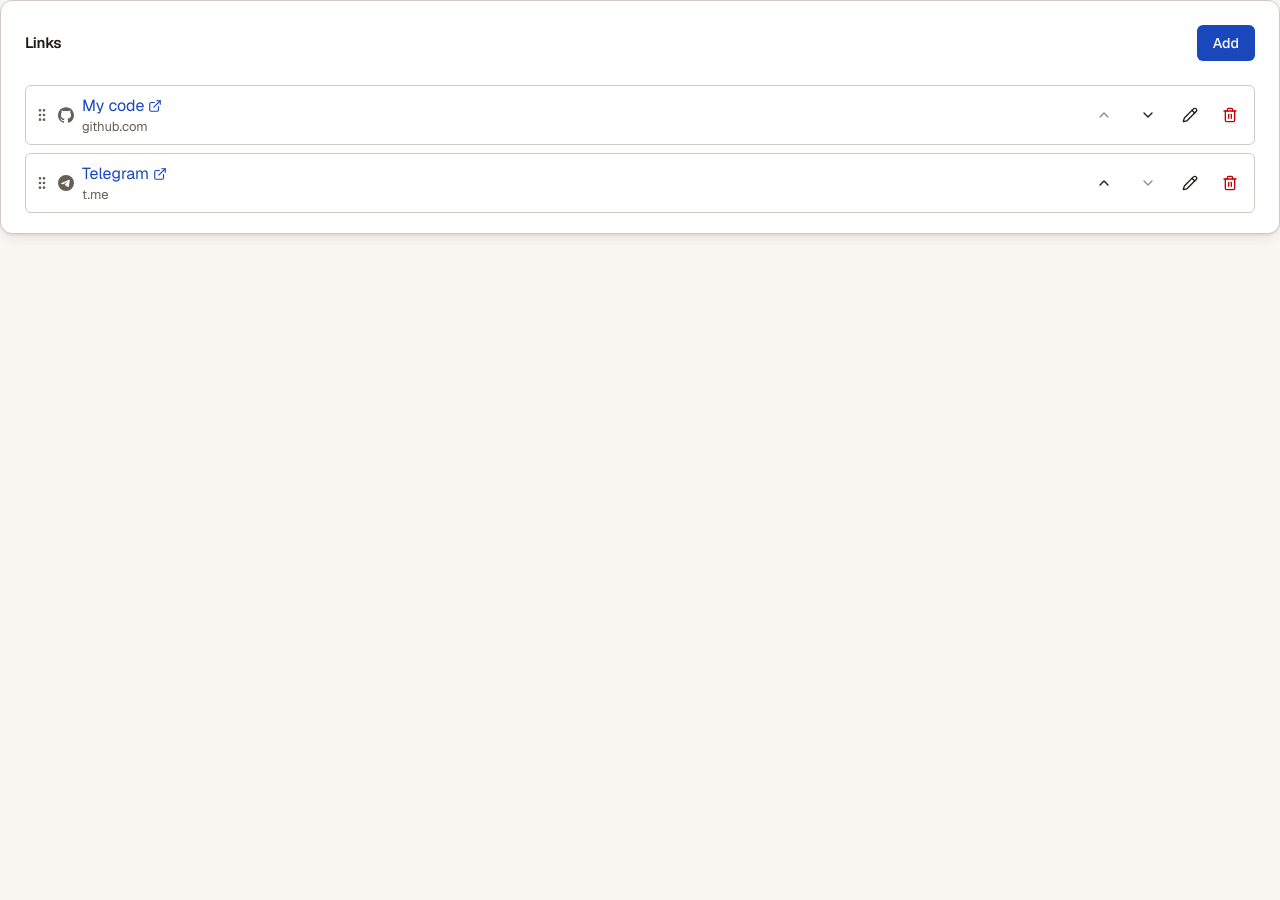
Scenario: the links card holds one editor at a time › loads the edited link into the one form it opens
Click the button named "Edit My code". click: (1190, 115)
box: top-left (1174, 99), bottom-right (1206, 131)
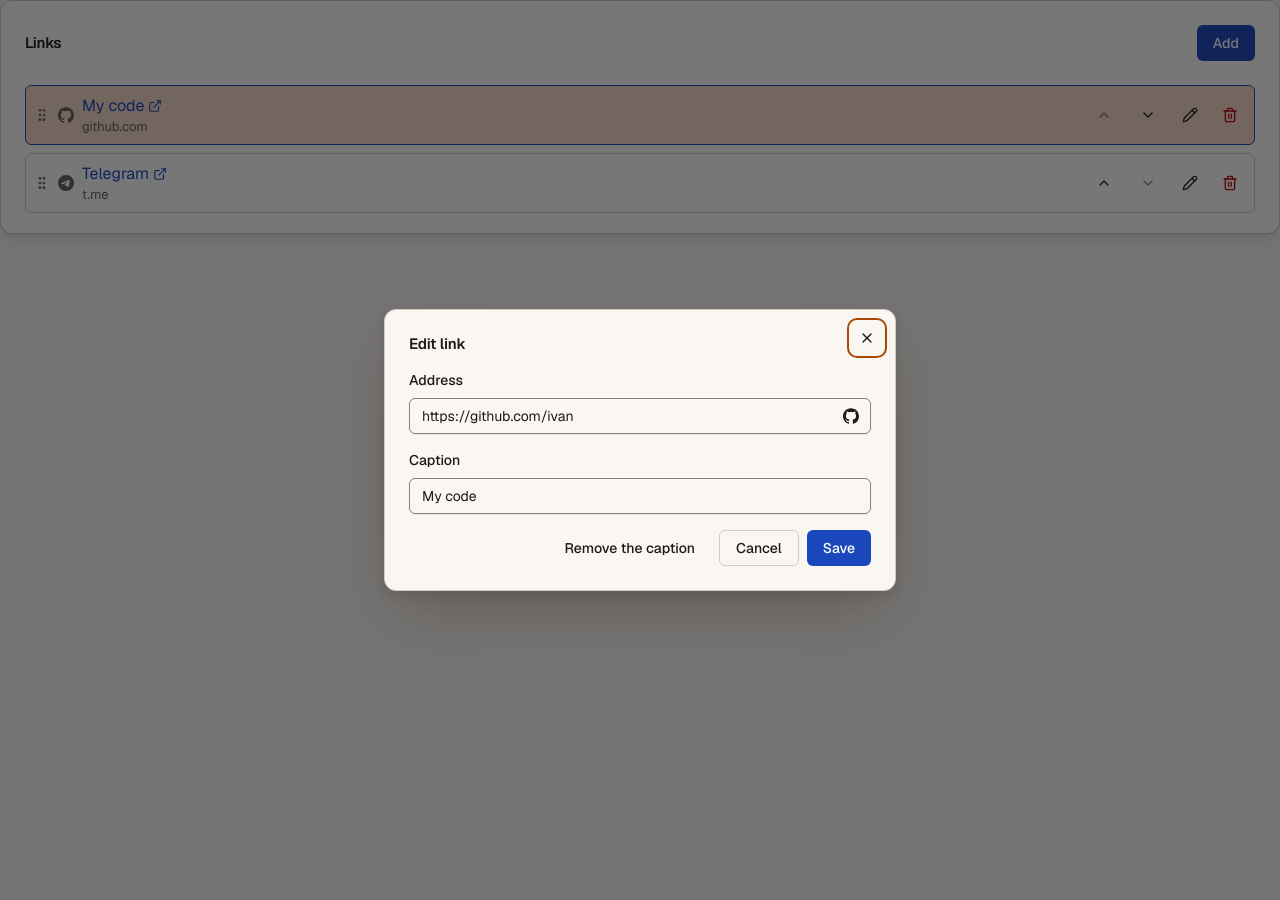
Result: the number of fields labelled "Address" is 1 at top-left (409, 398), bottom-right (871, 434)
Result: the field labelled "Address" holds "https://github.com/ivan" at top-left (409, 398), bottom-right (871, 434)
Result: the field labelled "Caption" holds "My code" at top-left (409, 478), bottom-right (871, 514)
